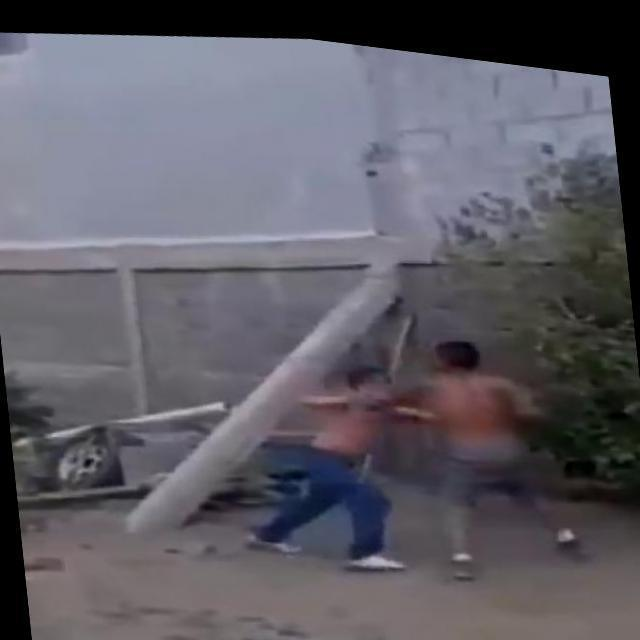fight: (280, 302, 563, 580)
